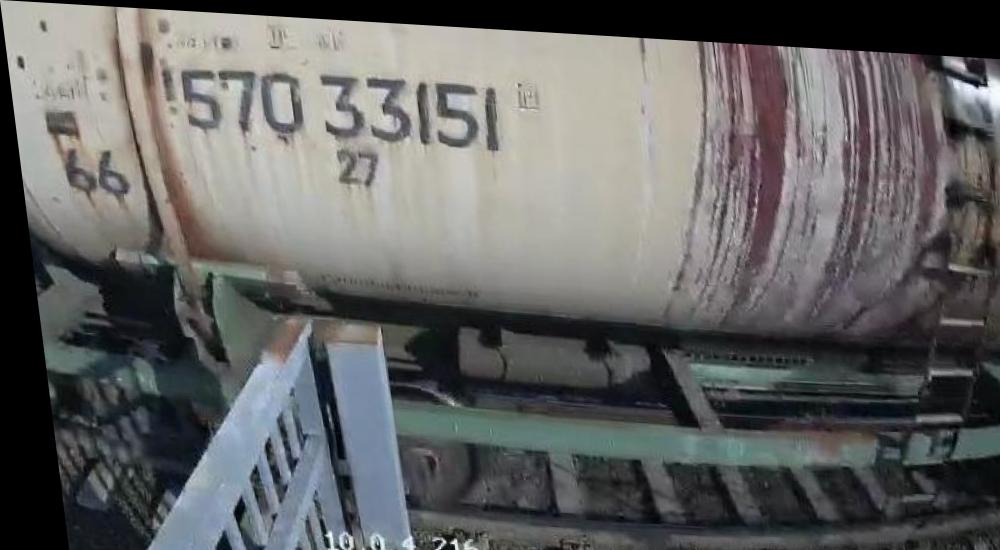Wagon-number: (172, 56, 506, 152)
